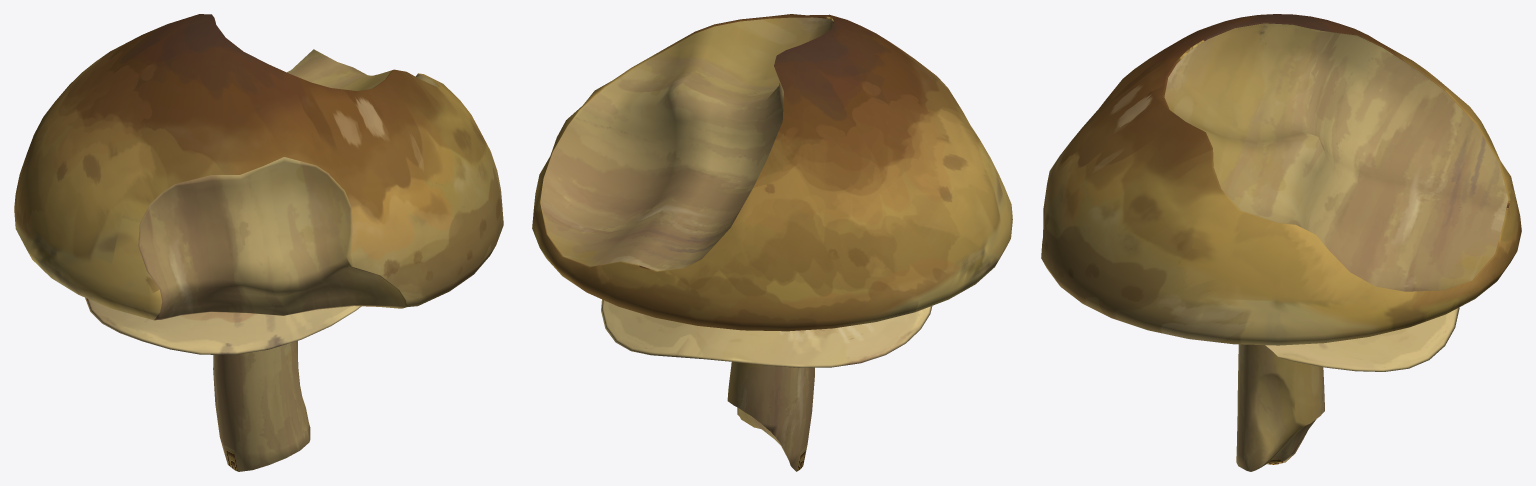
Rendered from GlowshroomAVisuals_Munch0.fbx.
3 renders of one model, left to right at view 1: azimuth 30°, elevation 25°; view 2: azimuth 150°, elevation 25°; view 3: azimuth 270°, elevation 25°, orthographic.
Visible parts, largest first — view 1: GlowshroomACap_Eaten1, GlowshroomAStalk.003; view 2: GlowshroomACap_Eaten1, GlowshroomAStalk.003; view 3: GlowshroomACap_Eaten1, GlowshroomAStalk.003.
Part boxes in pixels (<box>): GlowshroomACap_Eaten1: <box>14,14,503,320</box>; GlowshroomAStalk.003: <box>85,297,361,471</box>; GlowshroomACap_Eaten1: <box>532,14,1012,331</box>; GlowshroomAStalk.003: <box>601,299,932,471</box>; GlowshroomACap_Eaten1: <box>1041,14,1521,345</box>; GlowshroomAStalk.003: <box>1236,307,1459,471</box>.
Bounding box in the file's own units: 0.5359 × 0.5319 × 0.5301.
